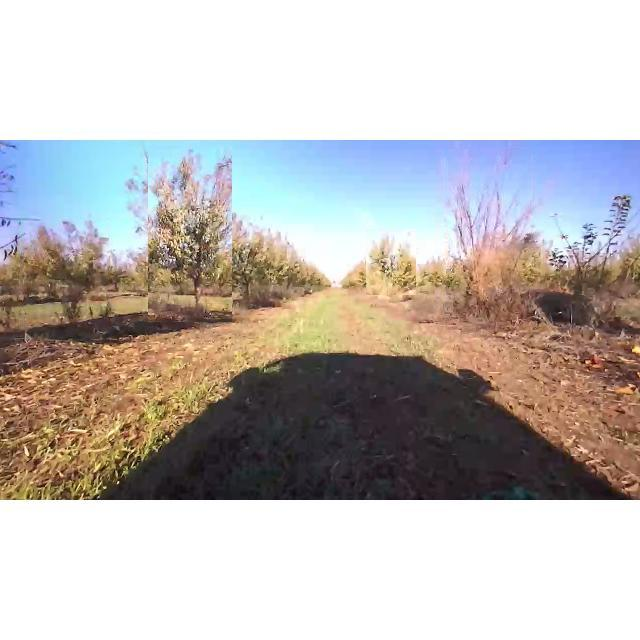direk: (446, 148, 532, 332), (148, 146, 232, 322), (21, 216, 109, 328), (558, 192, 634, 314), (218, 222, 264, 308), (366, 229, 416, 295)
